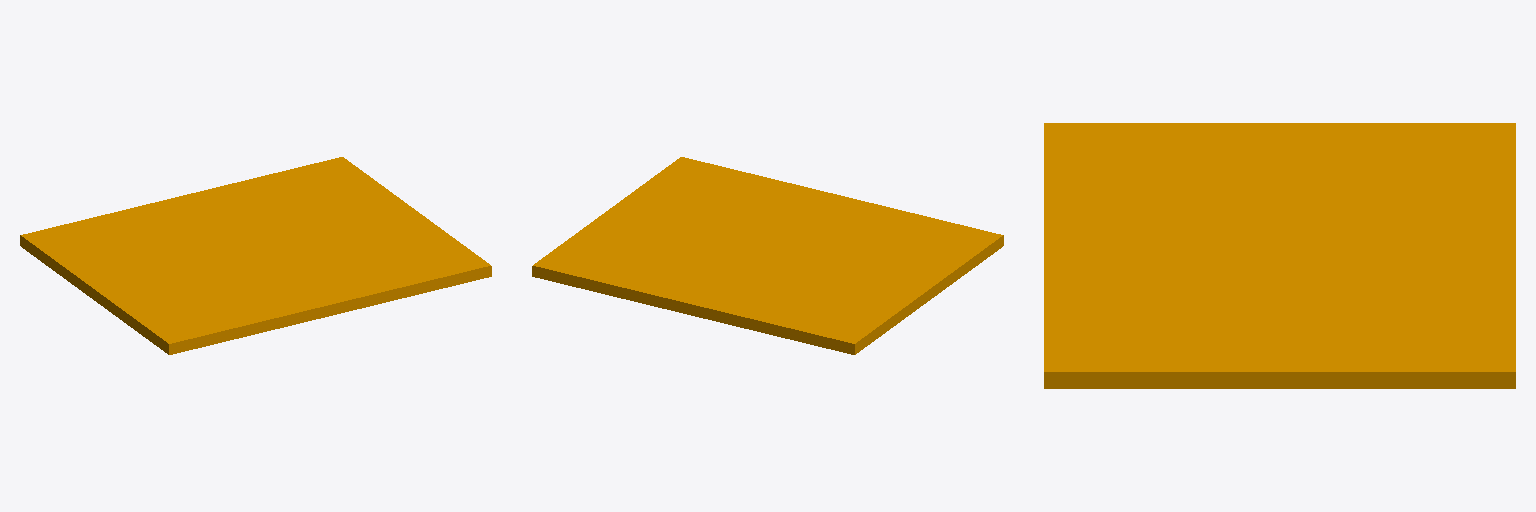
URDF robot description (box):
<?xml version="1.0" ?>
<robot name="box">
  <link name="base">
    <inertial>
      <origin rpy="0 0 0" xyz="0 0 0"/>
      <mass value=".1"/>
      <inertia ixx="0" ixy="0" ixz="0" iyy="0" iyz="0" izz="0"/>
    </inertial>
    <visual>
      <origin rpy="0 0 0" xyz="0 0 0"/>
      <geometry>
        <mesh filename="calibration_plane.obj" scale="1 1 1"/>
      </geometry>
    </visual>
    <collision>
      <origin rpy="0 0 0" xyz="0 0 0"/>
      <geometry>
        <mesh filename="calibration_plane.obj" scale="1 1 1"/>
      </geometry>
    </collision>
  </link>
</robot>

--- What the picture shows (computed from the rendered views, not written in the file) ---
The picture shows the robot from 3 angles, left to right: view 1: azimuth 30°, elevation 25°; view 2: azimuth 150°, elevation 25°; view 3: azimuth 270°, elevation 25°; orthographic projection.
Robot: box — 1 links, 0 joints (none); root link base; default pose: all joints at 0.
Links seen in each view (by area): view 1: base; view 2: base; view 3: base.
Boxes of the visible links, x1,y1,x2,y2 form: base: [20, 157, 491, 354]; base: [532, 157, 1003, 354]; base: [1044, 123, 1515, 388].
Bounding box of the posed robot: 0.3 × 0.24 × 0.01 m (x, y, z).
1 mesh visuals loaded from 1 distinct referenced files (1 OBJ).